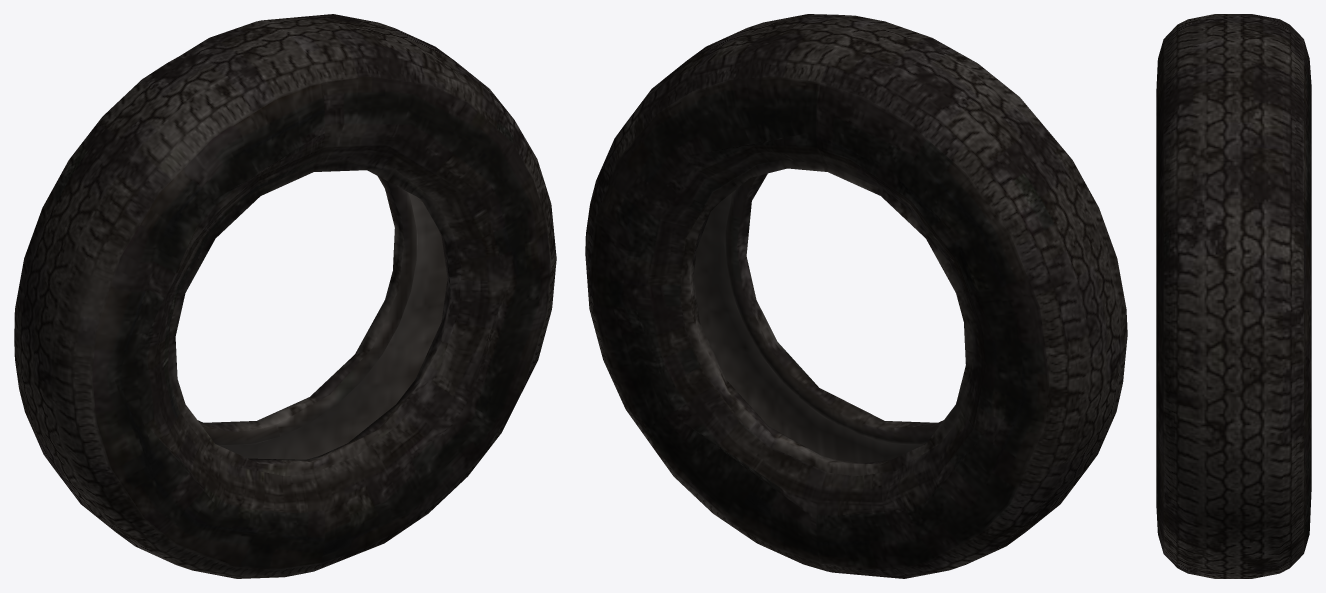
File: old_tyre.glb
The picture shows the model from 3 angles, left to right: view 1: azimuth 30°, elevation 25°; view 2: azimuth 150°, elevation 25°; view 3: azimuth 270°, elevation 25°; orthographic projection. The views are drawn at different scales.
Visible parts, largest first — view 1: old_tyre; view 2: old_tyre; view 3: old_tyre.
Boxes of the visible parts, bbox=[...] form: old_tyre: bbox=[14, 14, 556, 578]; old_tyre: bbox=[585, 14, 1127, 578]; old_tyre: bbox=[1156, 14, 1311, 578].
Size of the model in its own units: 0.5971 by 0.6 by 0.165.
Materials: 1 (1 with a texture image).
